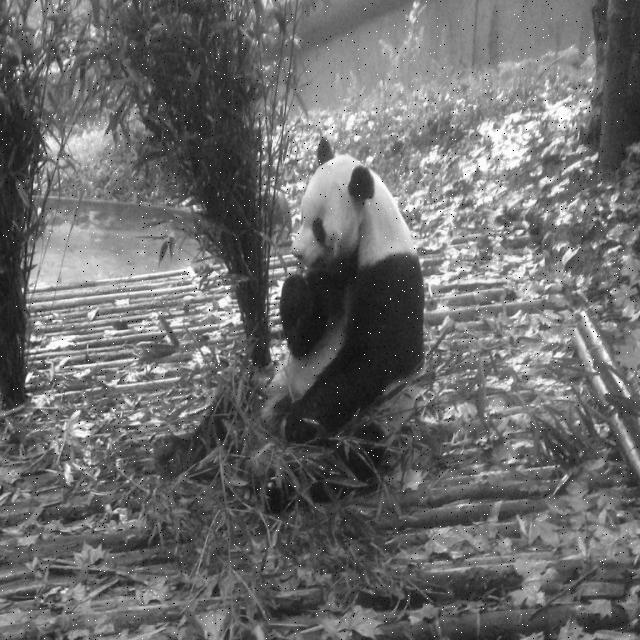panda: (152, 135, 426, 513)
